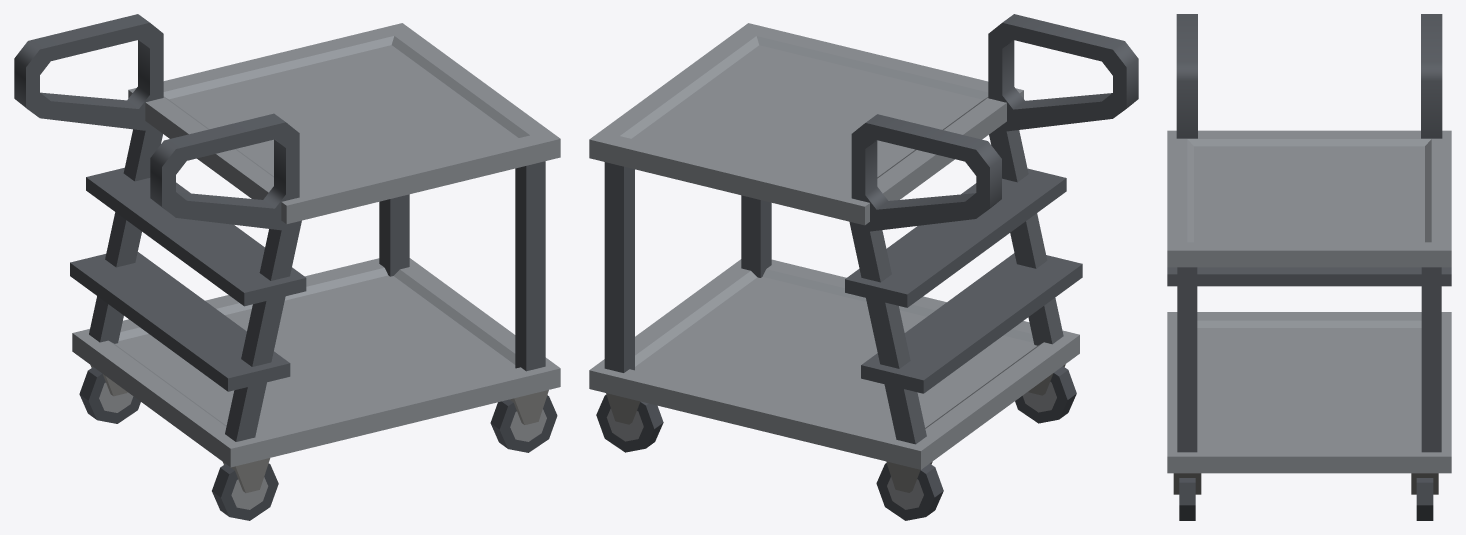
Rendered from Prop_VaultTrolley_01.glb.
3 renders of one model, left to right at view 1: azimuth 30°, elevation 25°; view 2: azimuth 150°, elevation 25°; view 3: azimuth 270°, elevation 25°, orthographic. The views are drawn at different scales.
Parts seen in each view (by area): view 1: SM_Prop_VaultTrolley_01; view 2: SM_Prop_VaultTrolley_01; view 3: SM_Prop_VaultTrolley_01.
Boxes of the visible parts, box(x1,y1,x2,y2) form: SM_Prop_VaultTrolley_01: box(14, 14, 560, 520); SM_Prop_VaultTrolley_01: box(589, 14, 1138, 520); SM_Prop_VaultTrolley_01: box(1167, 14, 1451, 520).
Bounding box in the file's own units: 1.14 × 1.07 × 0.7852.
1 material, 1 textured.
